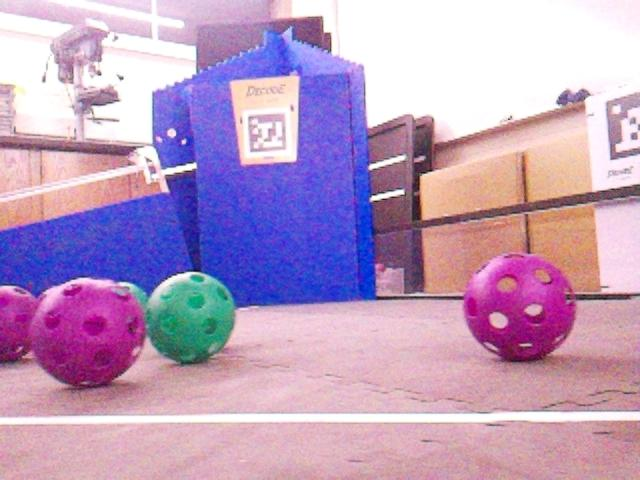Green: (144, 271, 236, 363), (115, 281, 147, 316)
Purple: (28, 277, 147, 385), (461, 253, 575, 360), (0, 285, 38, 359)
